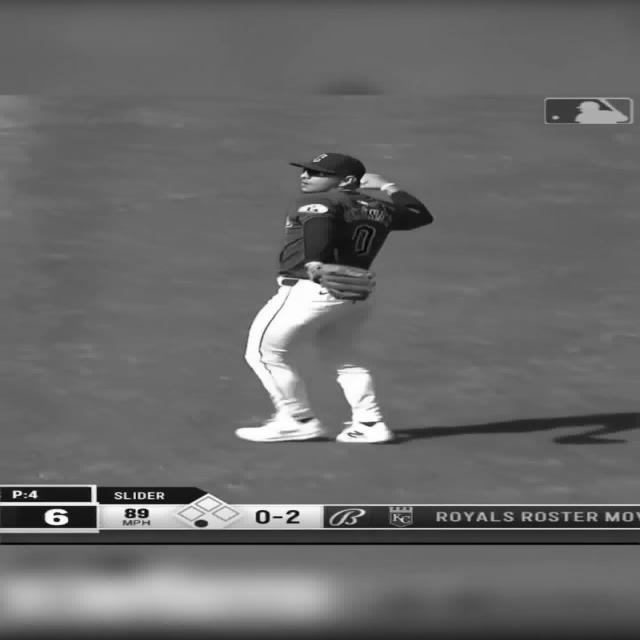baseball: (359, 173, 385, 189)
baseball_glove: (304, 262, 376, 300)
shoe: (234, 416, 324, 442), (334, 421, 394, 443)
